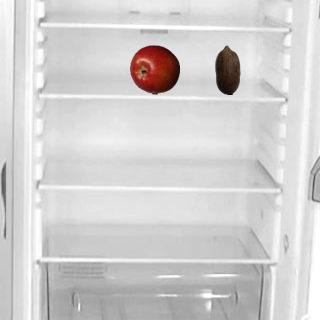Apple Braeburn: (129, 44, 179, 94)
Nut Pecan: (202, 44, 252, 94)
